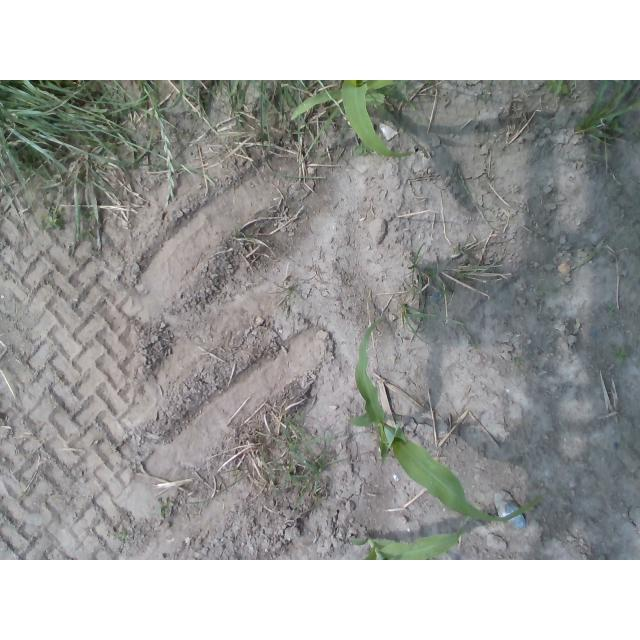Maize: (346, 313, 544, 523), (289, 80, 416, 156), (349, 508, 476, 560)
Weeds: (40, 200, 64, 231), (544, 80, 570, 96), (155, 497, 174, 515), (78, 225, 95, 240), (352, 140, 369, 154), (616, 345, 628, 363), (79, 207, 94, 221), (510, 356, 522, 371), (115, 528, 129, 540), (535, 282, 549, 294), (607, 301, 615, 315), (633, 127, 640, 137), (489, 205, 496, 212)
